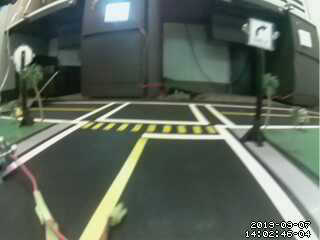Right_only_sign: (240, 10, 278, 53)
